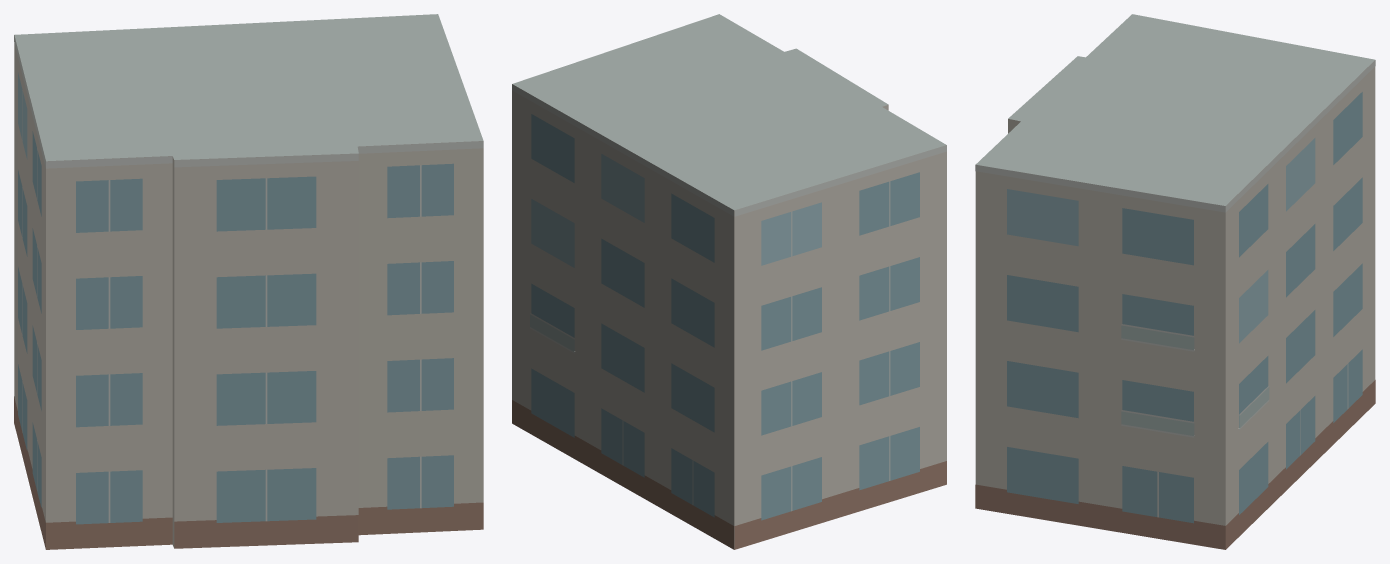
File: survey-upis-32748198.glb
The picture shows the model from 3 angles, left to right: view 1: azimuth 30°, elevation 25°; view 2: azimuth 150°, elevation 25°; view 3: azimuth 270°, elevation 25°; orthographic projection. The views are drawn at different scales.
Visible parts, largest first — view 1: survey-upis-32748198.tmp; view 2: survey-upis-32748198.tmp; view 3: survey-upis-32748198.tmp.
Part boxes in pixels (box(x1,y1,x2,y2)): survey-upis-32748198.tmp: box(14, 14, 483, 549); survey-upis-32748198.tmp: box(512, 14, 946, 549); survey-upis-32748198.tmp: box(975, 14, 1375, 549).
Bounding box in the file's own units: 15.34 × 12.8 × 13.5.
